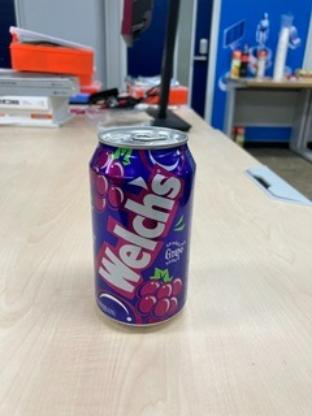Can: (86, 124, 198, 338)
